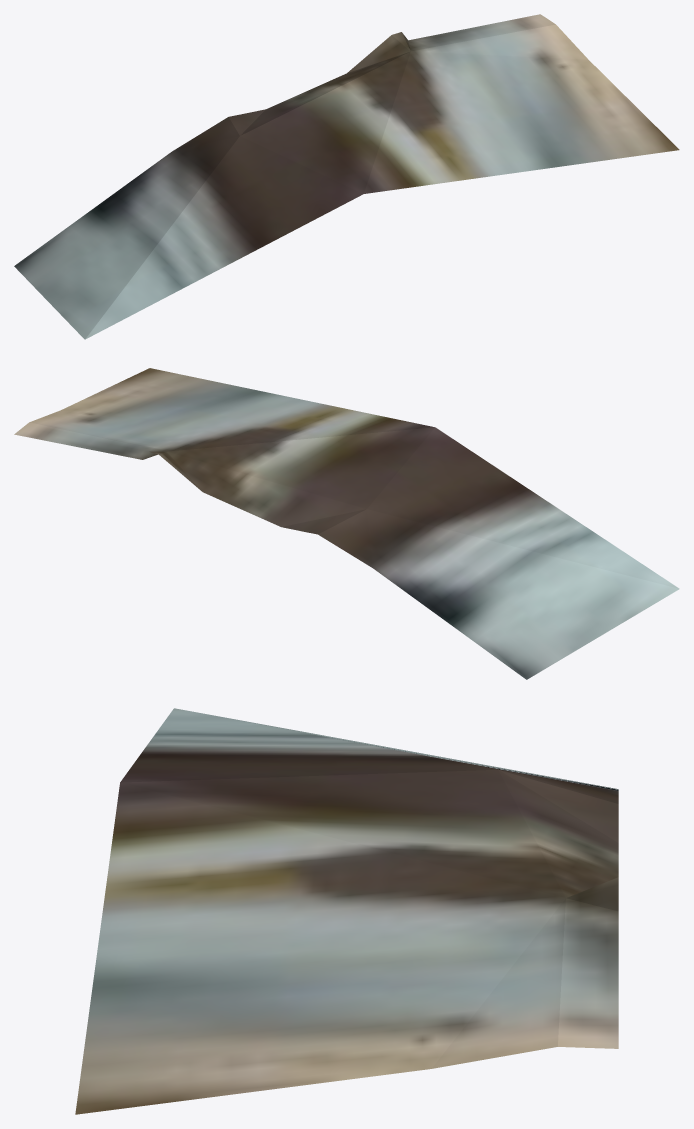
3 renders of one model, top to bottom at view 1: azimuth 30°, elevation 25°; view 2: azimuth 150°, elevation 25°; view 3: azimuth 270°, elevation 25°, orthographic. The views are drawn at different scales.
Size of the model in its own units: 1.21 by 0.2834 by 0.5129.
1 material, 1 textured.
